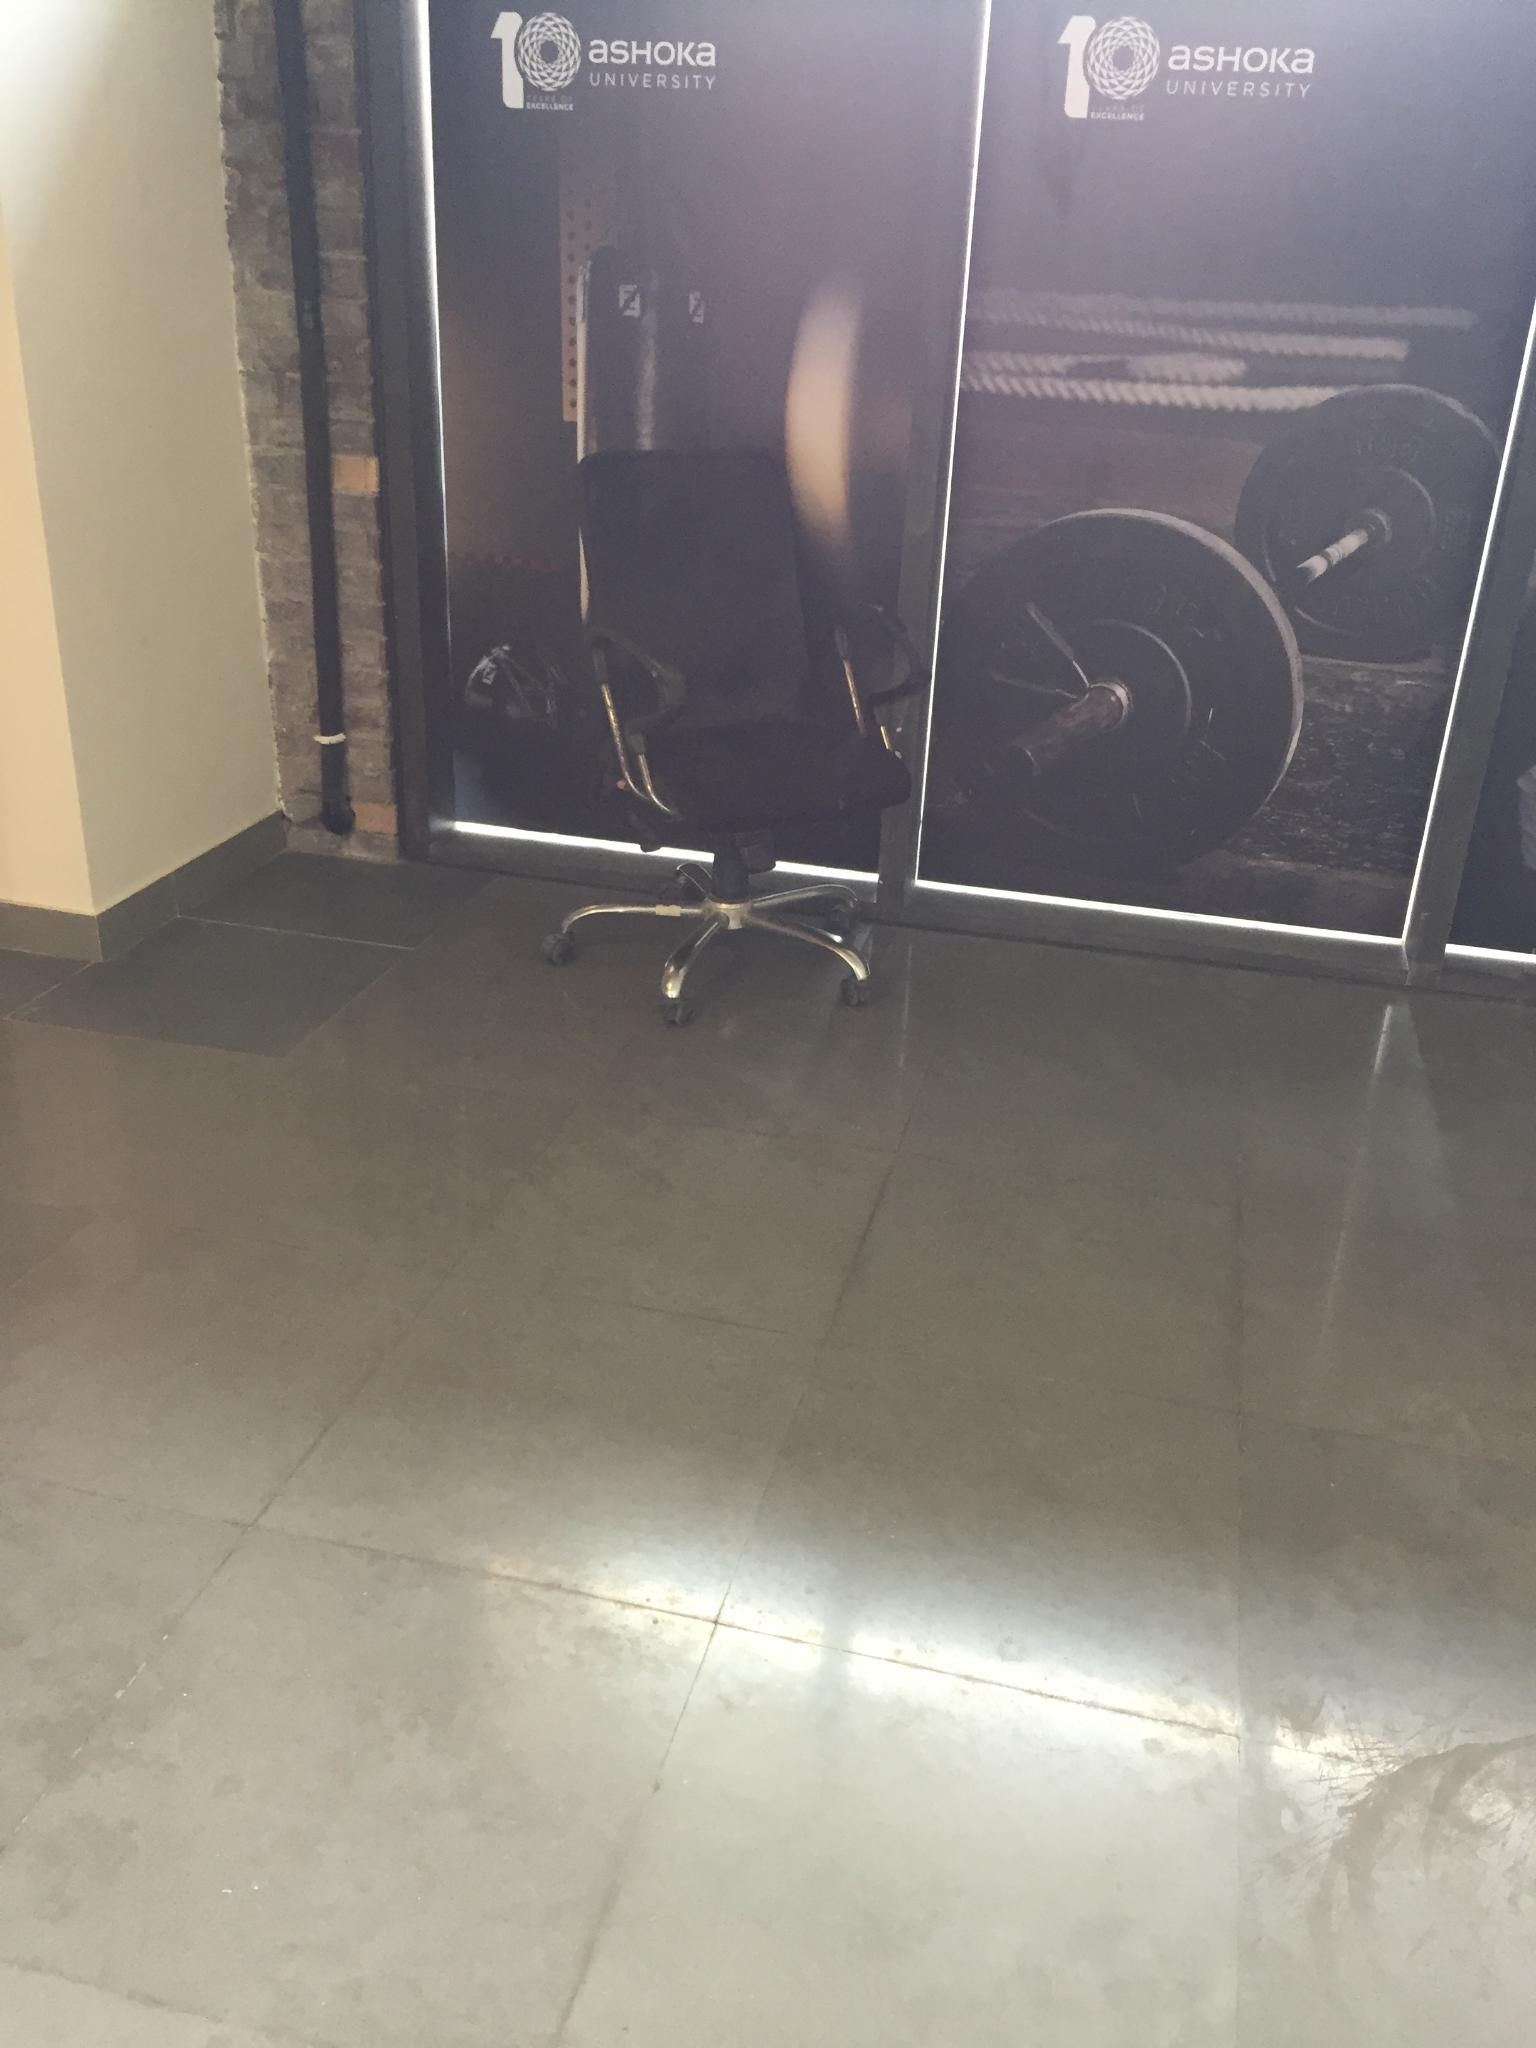chair: (558, 455, 916, 1021)
